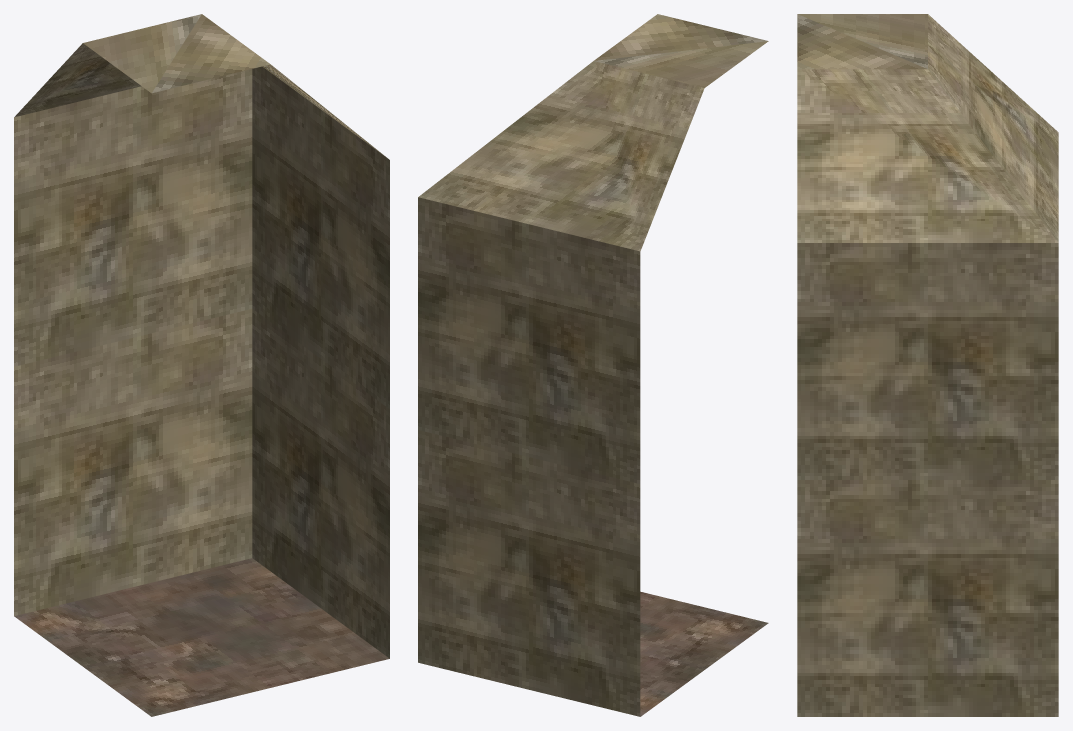
File: corner-in.glb
3 views of the same model, side by side, from view 1: azimuth 30°, elevation 25°; view 2: azimuth 150°, elevation 25°; view 3: azimuth 270°, elevation 25° (orthographic). The views are drawn at different scales.
Parts seen in each view (by area): view 1: corner-in-col; view 2: corner-in-col; view 3: corner-in-col.
Part boxes in pixels (x1,y1,x2,y2): corner-in-col: (14, 14, 389, 716); corner-in-col: (418, 14, 768, 716); corner-in-col: (797, 14, 1058, 716).
Size of the model in its own units: 1 by 2.5 by 1.
1 material, 1 textured.
